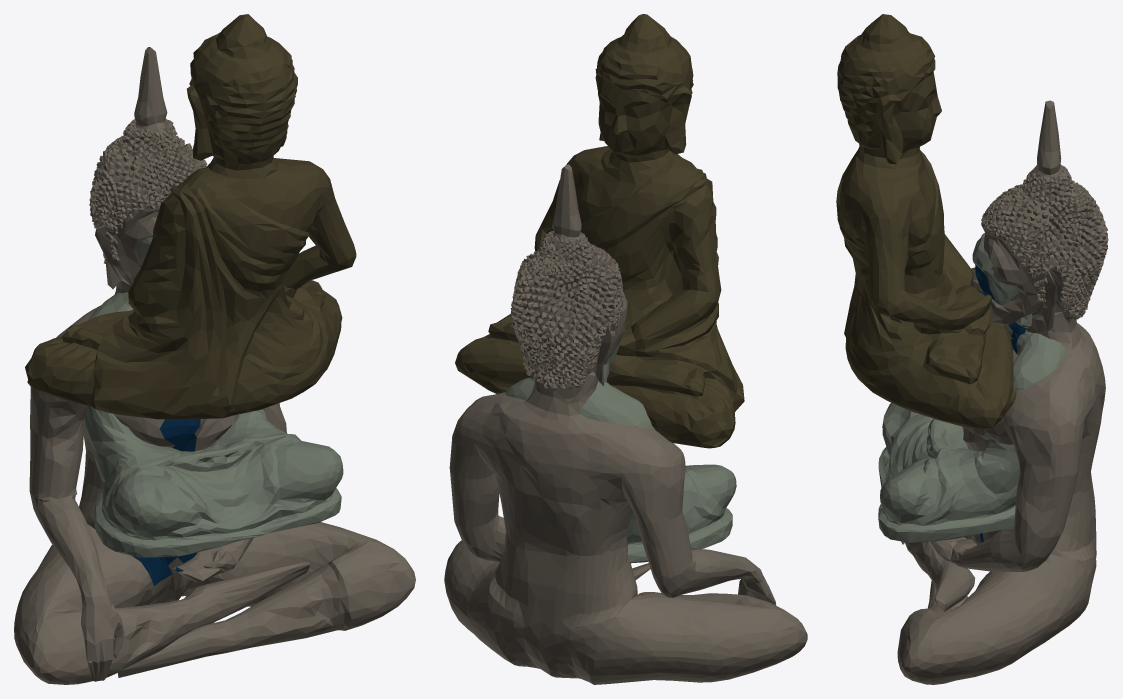
The model's file is Buddha_statues.FBX.
3 views of the same model, side by side, from view 1: azimuth 30°, elevation 25°; view 2: azimuth 150°, elevation 25°; view 3: azimuth 270°, elevation 25° (orthographic). The views are drawn at different scales.
Parts seen in each view (by area): view 1: Group19321, Group63075, Group47563; view 2: Group63075, Group19321, Group47563; view 3: Group63075, Group19321, Group47563.
Part boxes in pixels (x1,y1,x2,y2): Group19321: (25, 14, 356, 419); Group63075: (14, 47, 415, 684); Group47563: (84, 237, 343, 557); Group63075: (444, 164, 807, 684); Group19321: (455, 14, 744, 448); Group47563: (505, 297, 736, 563); Group63075: (897, 100, 1108, 684); Group19321: (836, 14, 1016, 429); Group47563: (878, 233, 1066, 542).
Bounding box in the file's own units: 3793 × 6308 × 2558.
